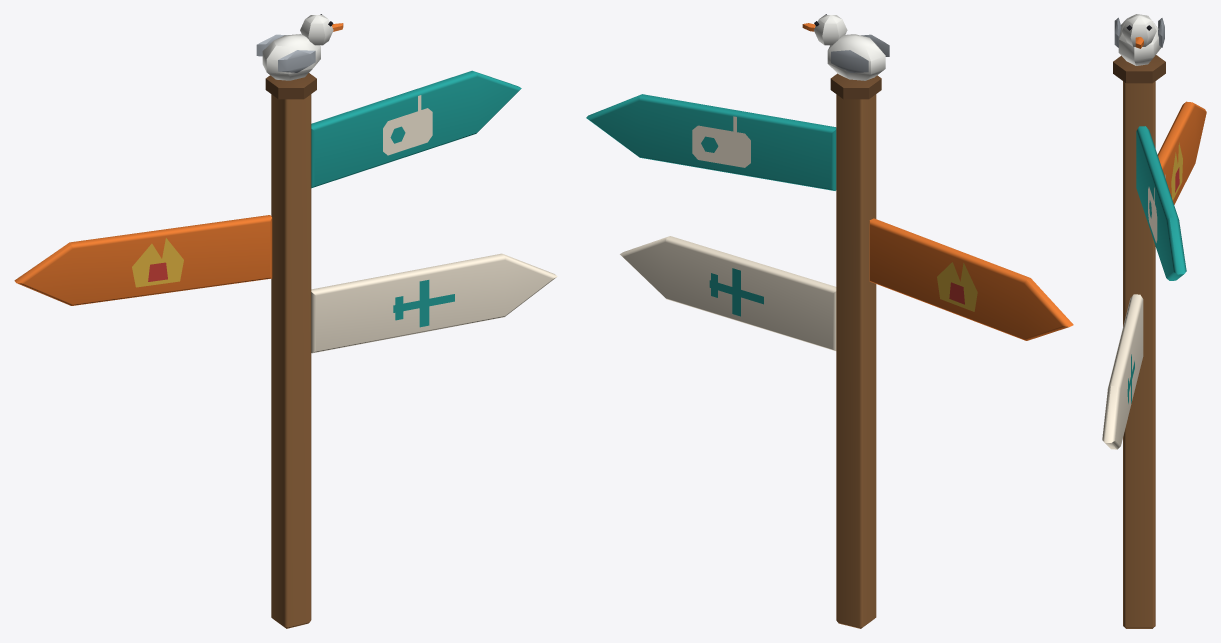
File: Cartel.fbx
The picture shows the model from 3 angles, left to right: view 1: azimuth 30°, elevation 25°; view 2: azimuth 150°, elevation 25°; view 3: azimuth 270°, elevation 25°; orthographic projection. The views are drawn at different scales.
Visible parts, largest first — view 1: Cartel; view 2: Cartel; view 3: Cartel.
Boxes of the visible parts, x1,y1,x2,y2 form: Cartel: (14, 14, 557, 628); Cartel: (586, 14, 1073, 628); Cartel: (1102, 14, 1206, 628).
Bounding box in the file's own units: 5.43 × 6.28 × 0.9589.
1 material, 1 textured.
